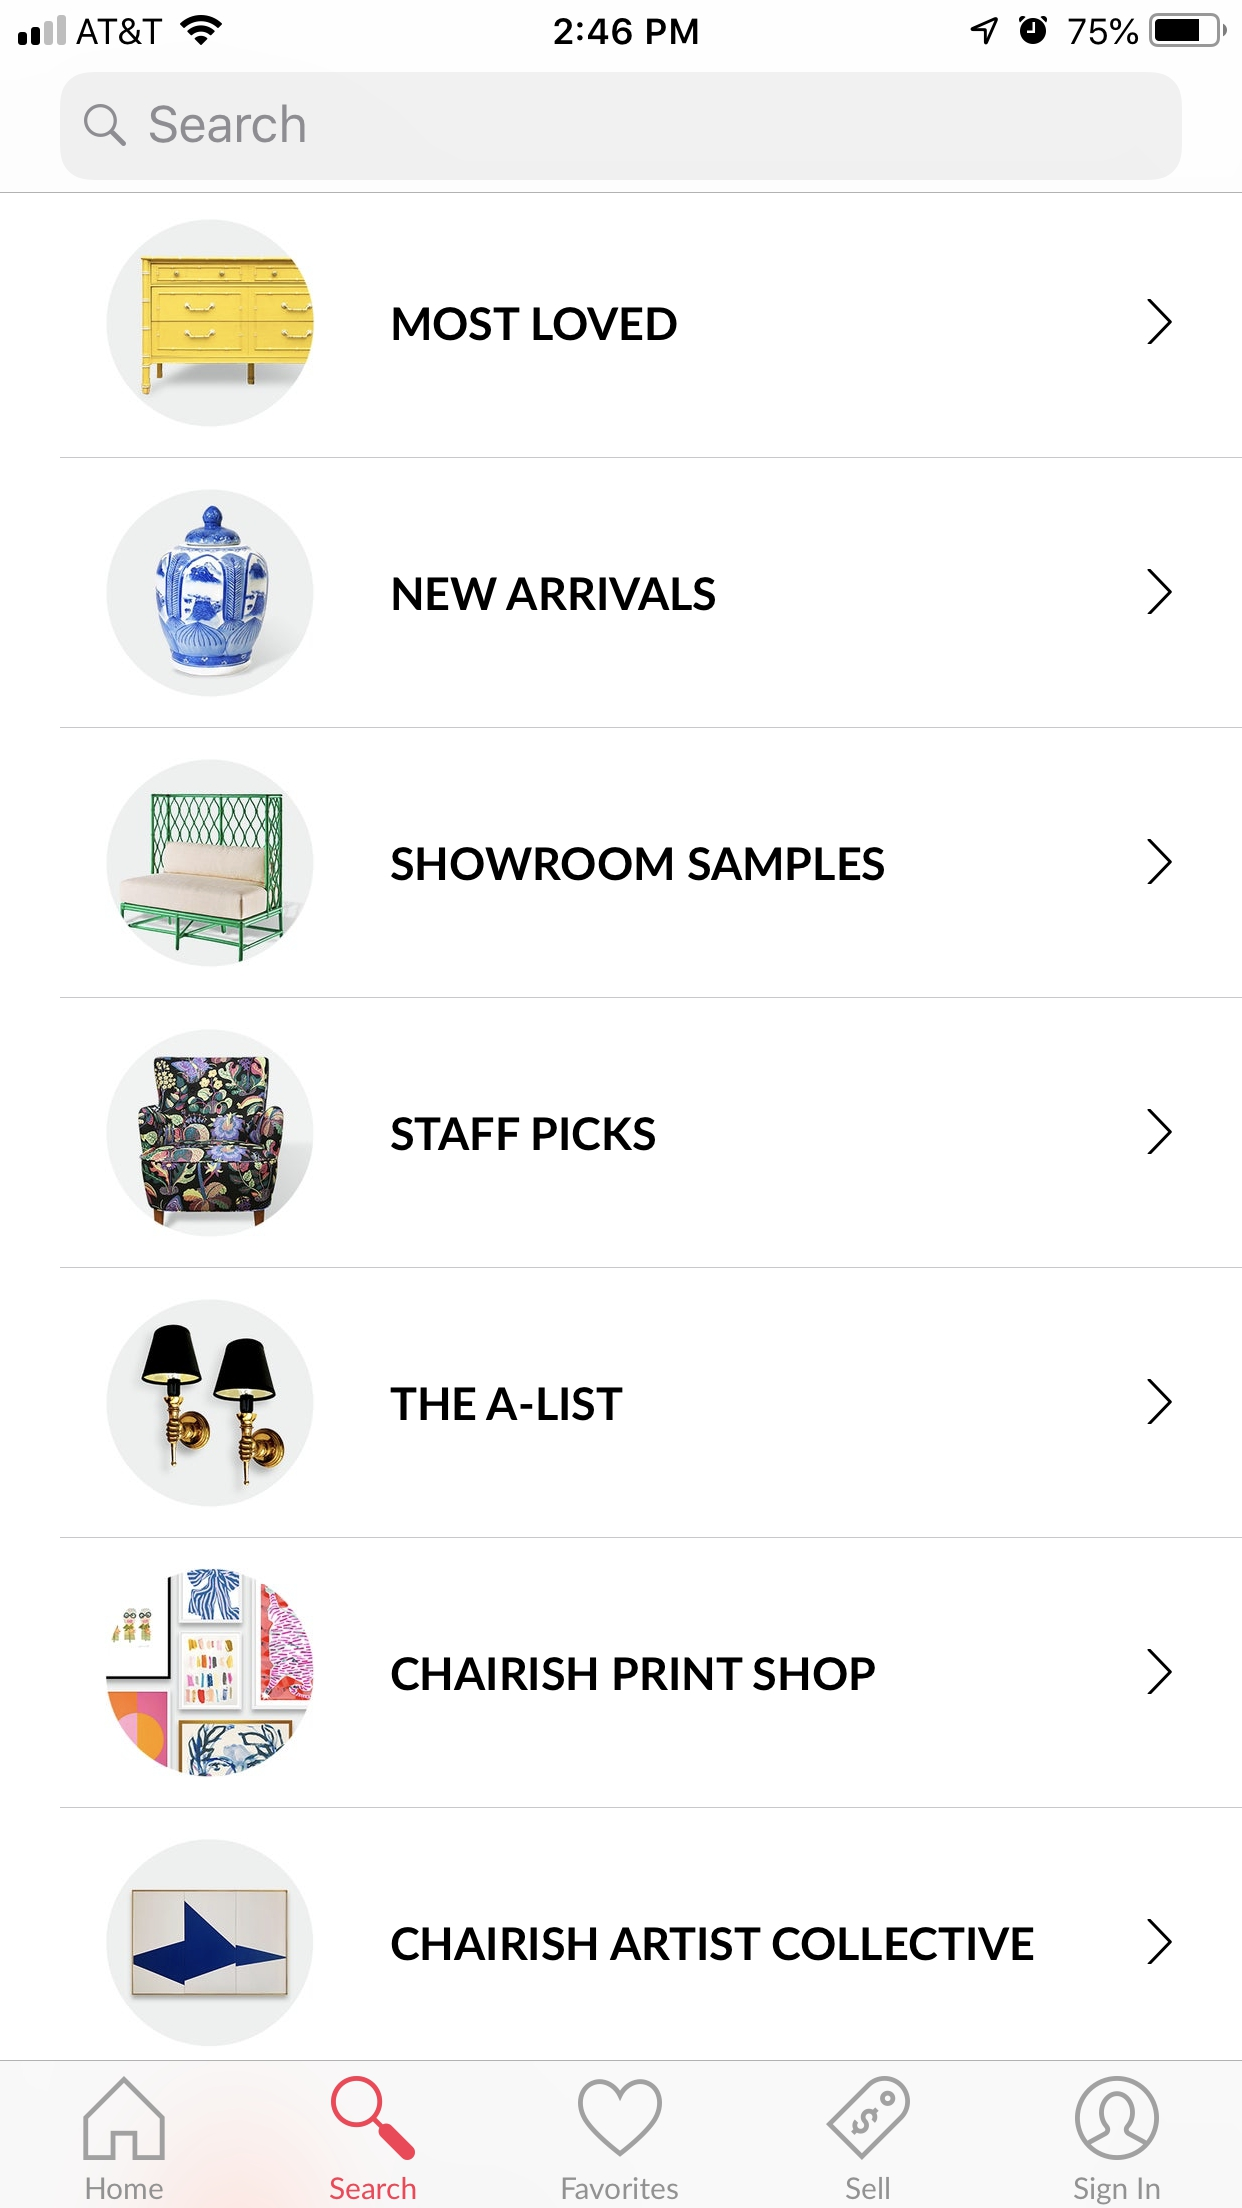EditText: (61, 73, 1181, 180)
Icon: (331, 2075, 417, 2161), (1074, 2076, 1160, 2161), (826, 2076, 911, 2161), (83, 2076, 165, 2161), (576, 2078, 663, 2156), (83, 105, 127, 147), (1146, 299, 1174, 346), (1146, 569, 1174, 616), (1146, 839, 1174, 886), (1146, 1109, 1174, 1156), (1146, 1378, 1174, 1425), (1146, 1648, 1174, 1695), (1146, 1918, 1174, 1965)
Image: (108, 218, 315, 428), (108, 1568, 315, 1777), (106, 760, 314, 968), (106, 1030, 314, 1237), (108, 1300, 315, 1507), (108, 1838, 315, 2046), (108, 488, 314, 698)
Text: (391, 1926, 1034, 1961), (391, 848, 886, 883), (391, 1656, 877, 1691), (393, 576, 716, 613), (393, 306, 678, 343), (391, 1118, 657, 1153), (391, 1386, 623, 1421), (150, 105, 306, 144), (563, 2176, 679, 2200), (1074, 2175, 1160, 2205), (331, 2176, 417, 2200), (86, 2176, 164, 2200), (846, 2176, 890, 2200)
UpperTaskBar: (2, 2, 1242, 49)
